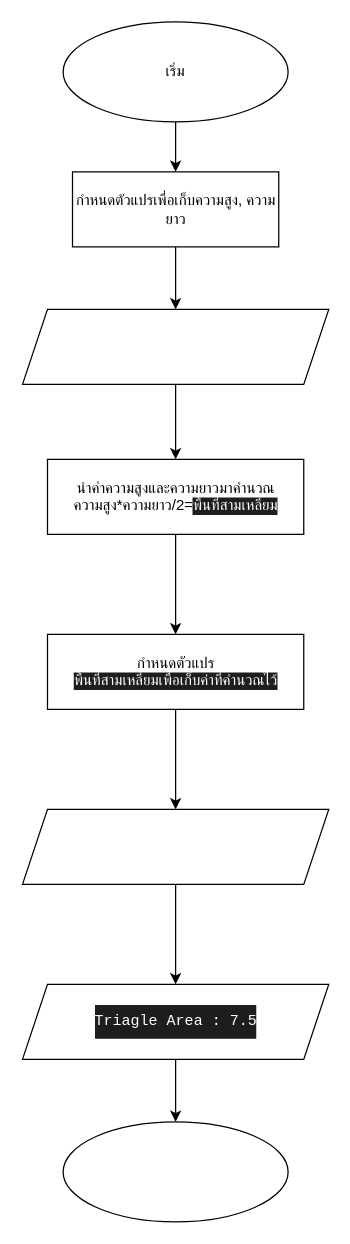
The diagram is 350 pixels wide and 1244 high, and some of its shapes have lost their labels. Each missing label, with the box of its shape:
จบ: (62, 1121, 288, 1222)
รับค่าความสูงและยาวจากผู้ใช่มาเก็บในตัวแปร: (21, 308, 329, 384)
แสดงค่าตัวแปรที่เก็บ พื้นที่สามเหลี่ยม: (21, 808, 329, 884)
